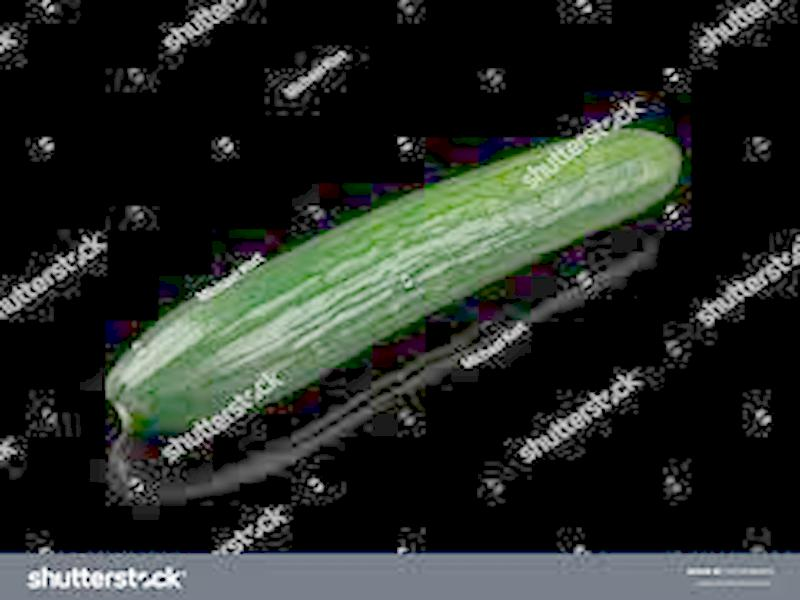Cucumber: (106, 126, 684, 439)
